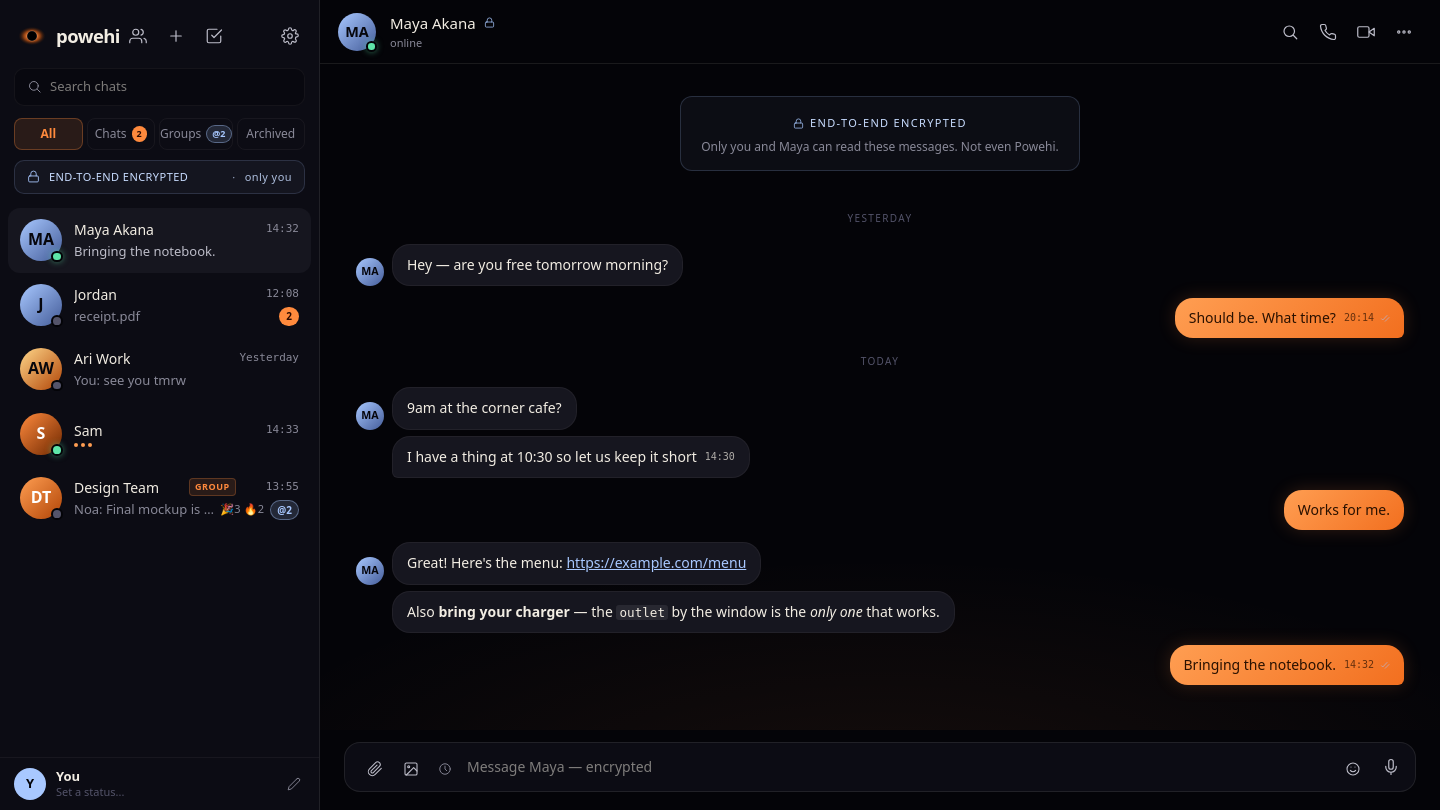
Test: ChatLayout — per-chat mute › incoming message to unmuted background chat DOES increment unread badge
# Select Jordan to clear its unread, then return to Maya
Click the button "J Jordan 12:08 receipt.pdf 2".
click(41, 305)  # box [8,272,311,337]
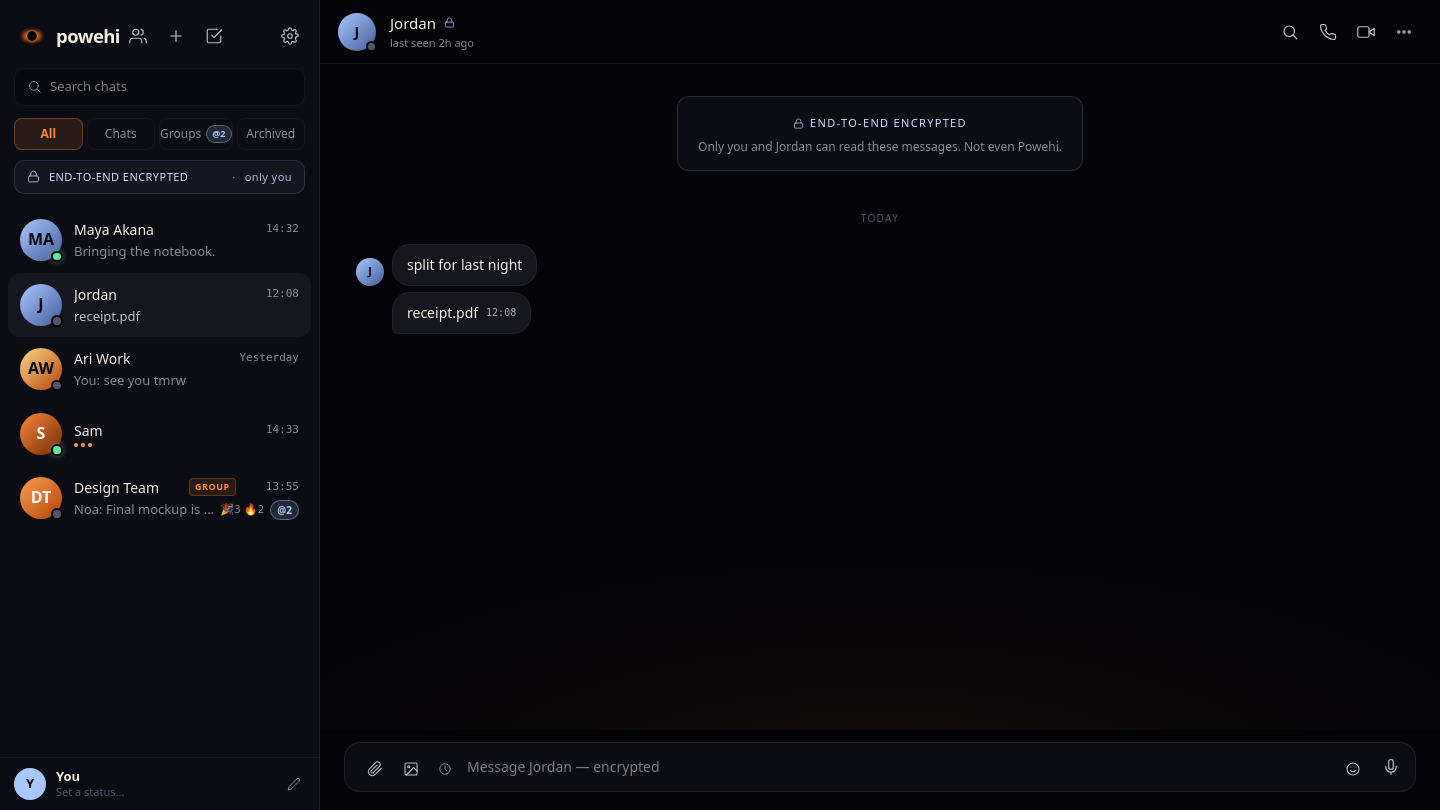
Click the button "MA Maya Akana 14:32 Bringing the notebook.".
click(160, 240)  # box [8,208,311,272]
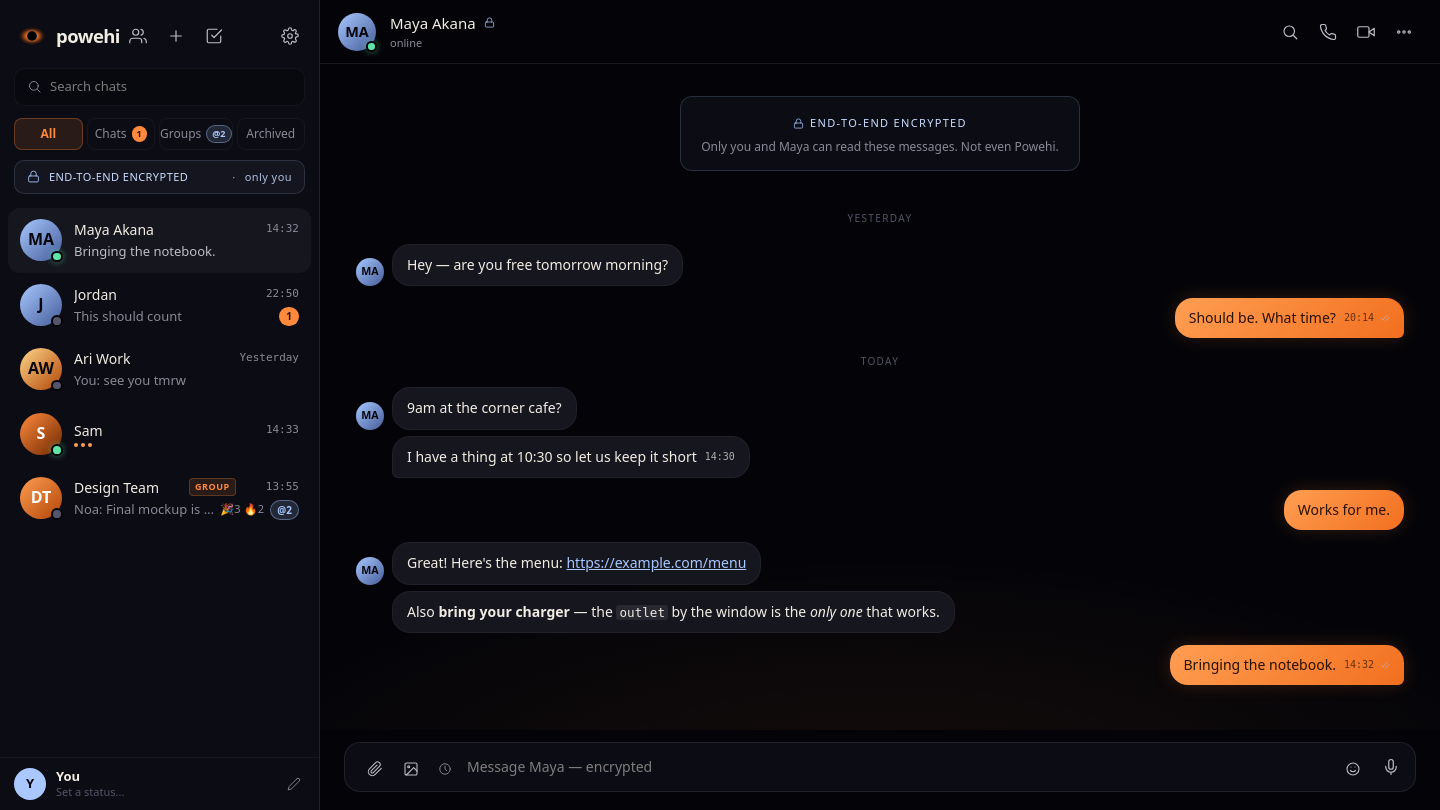
Result: the text with test id "unread-badge" is shown at [279,307,299,326]
